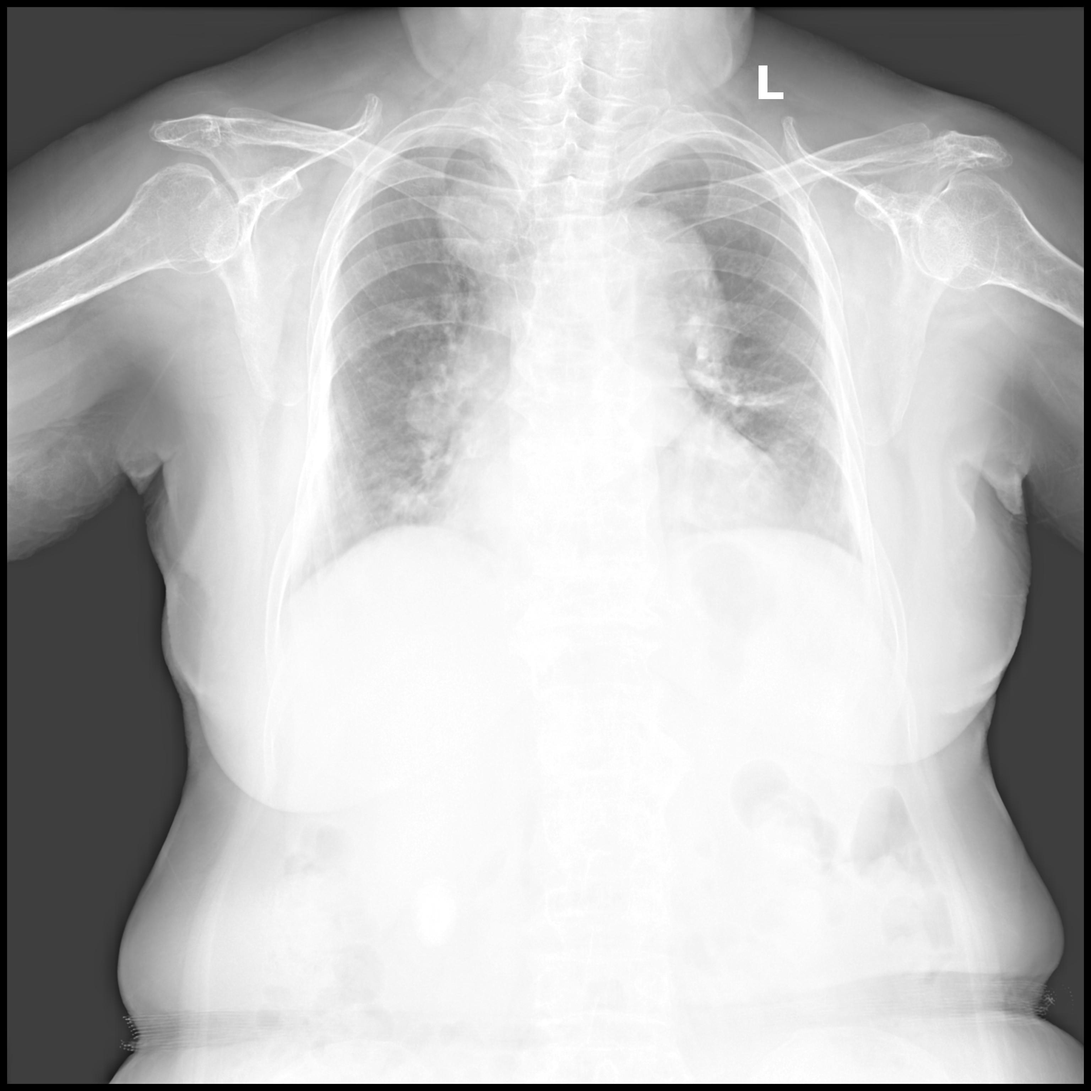Aortic enlargement: (576, 203, 728, 347)
Cardiomegaly: (429, 446, 783, 559)
Pulmonary fibrosis: (701, 387, 821, 407)
